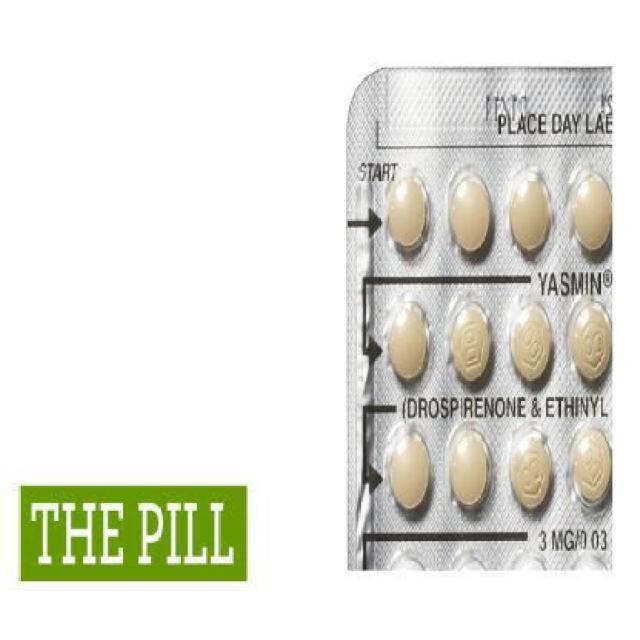B3: (345, 65, 612, 570)
